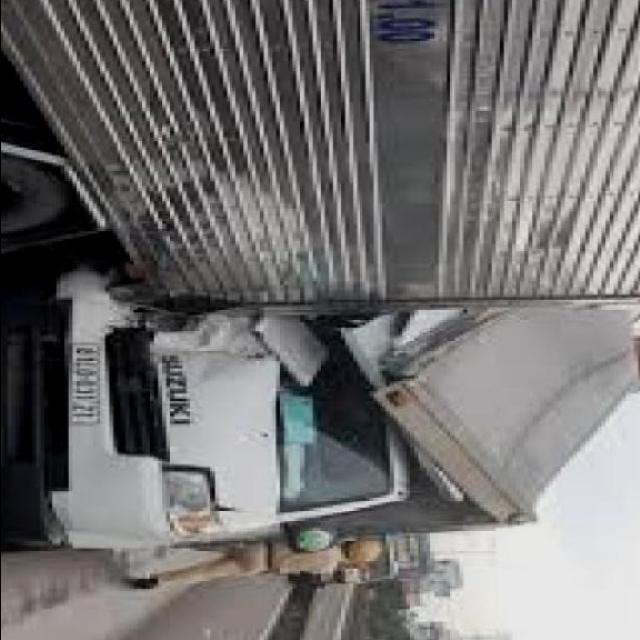accident: (0, 221, 542, 567)
